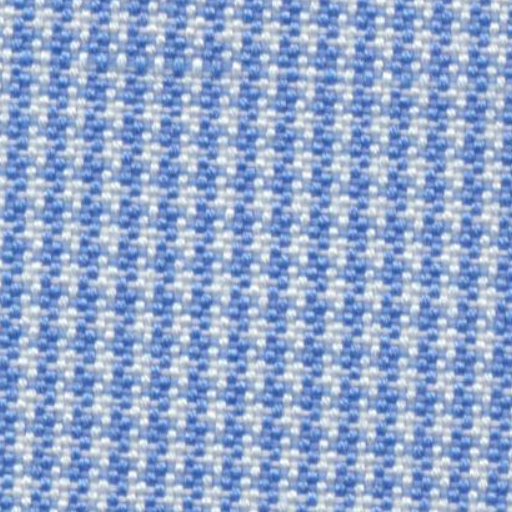TuoSha: (6, 38, 498, 120)
